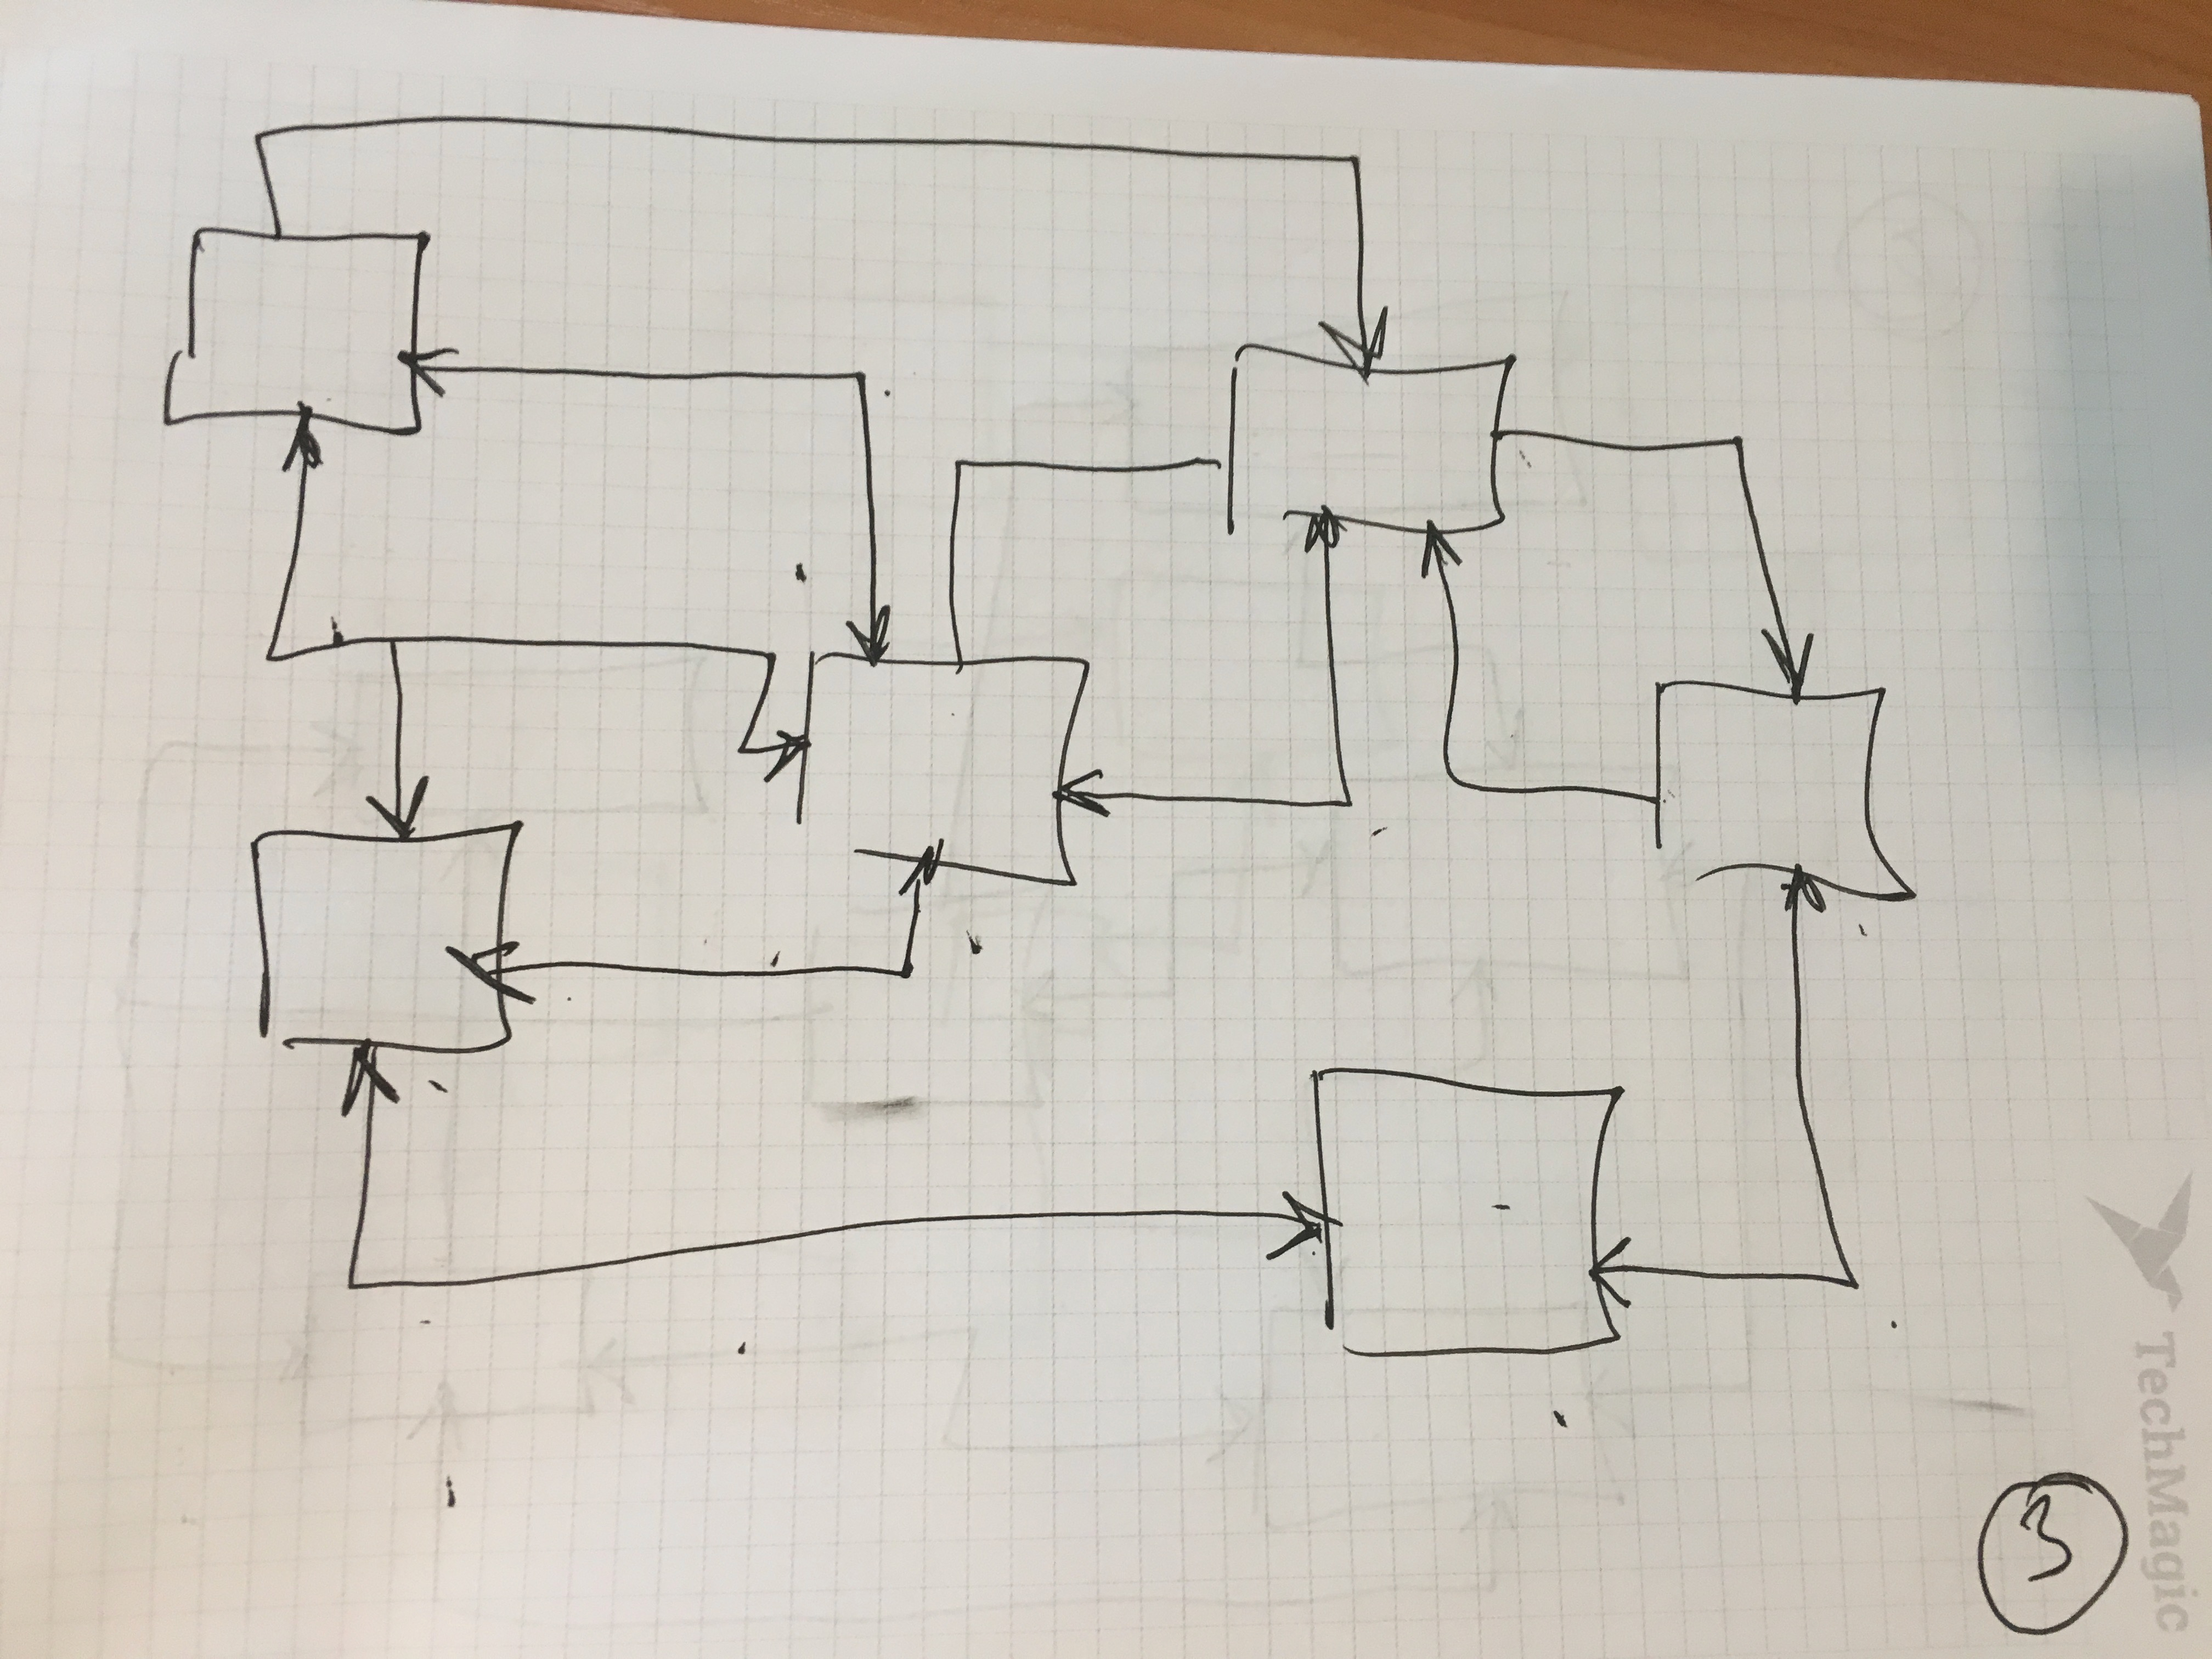arrow: (1315, 256, 1409, 420), (1749, 594, 1831, 748), (1211, 1195, 1372, 1269), (340, 1016, 413, 1169), (1568, 1241, 1698, 1312), (430, 941, 564, 1004), (362, 753, 435, 866), (374, 328, 477, 406), (270, 383, 333, 511), (834, 572, 904, 673), (1413, 498, 1470, 620), (1771, 826, 1813, 992), (1038, 772, 1160, 826), (887, 836, 949, 939), (1296, 495, 1350, 582), (752, 720, 822, 786)
